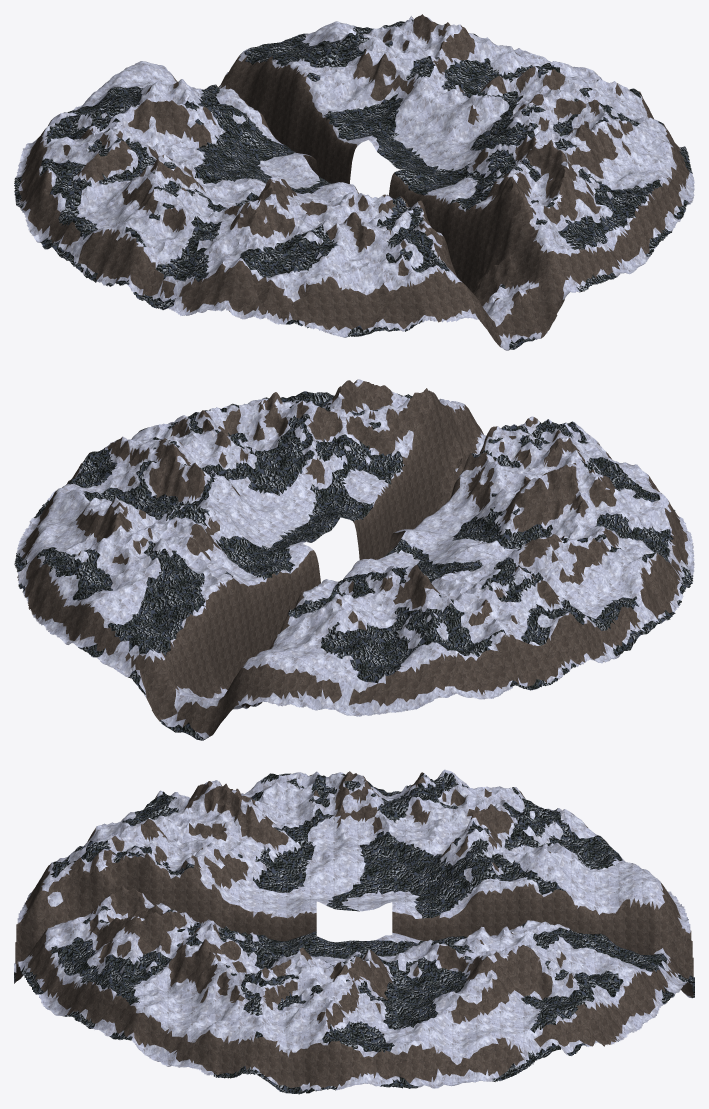
The model's file is backdrop_mountain_ring_v5_winter_near.glb.
The picture shows the model from 3 angles, top to bottom: view 1: azimuth 30°, elevation 25°; view 2: azimuth 150°, elevation 25°; view 3: azimuth 270°, elevation 25°; orthographic projection.
Parts seen in each view (by area): view 1: backdrop_v5_near; view 2: backdrop_v5_near; view 3: backdrop_v5_near.
Part boxes in pixels (<box>): backdrop_v5_near: <box>14,14,694,350</box>; backdrop_v5_near: <box>14,379,694,740</box>; backdrop_v5_near: <box>14,769,694,1094</box>.
Bounding box in the file's own units: 574 × 168 × 574.
Materials: 3 (3 with a texture image).
